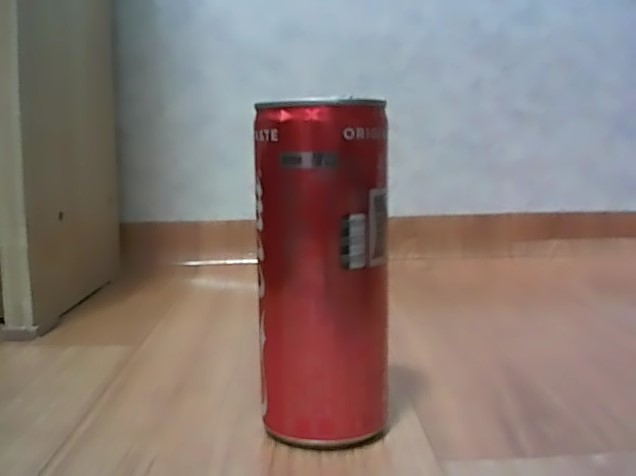Can: (245, 89, 397, 455)
